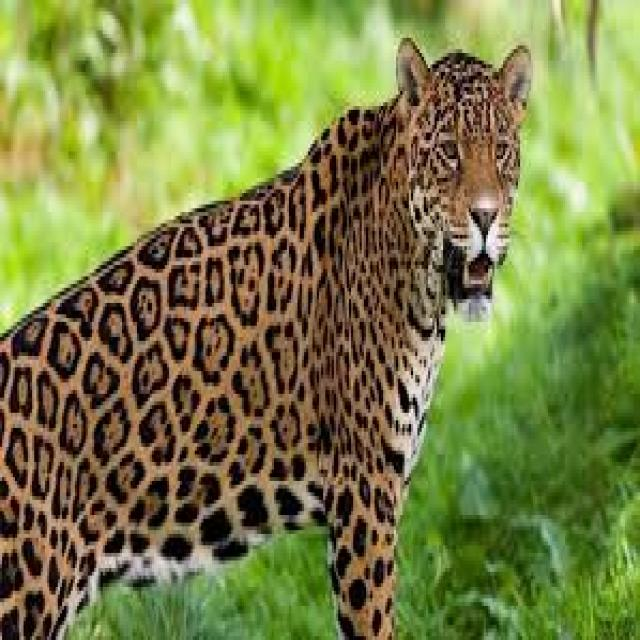Jaguar: (0, 34, 535, 640)
